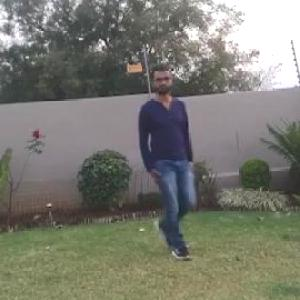follow: (123, 64, 189, 255)
